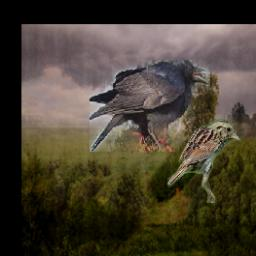Crow: (90, 61, 210, 153)
Sparrow: (167, 120, 241, 204)
